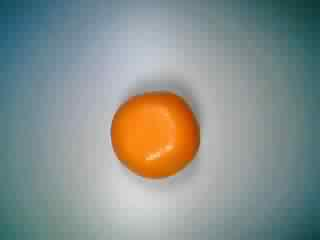orange: (107, 84, 202, 186)
